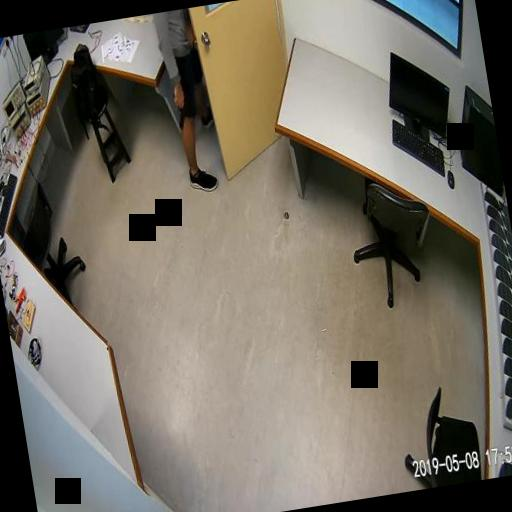Handgun: (170, 90, 188, 128)
